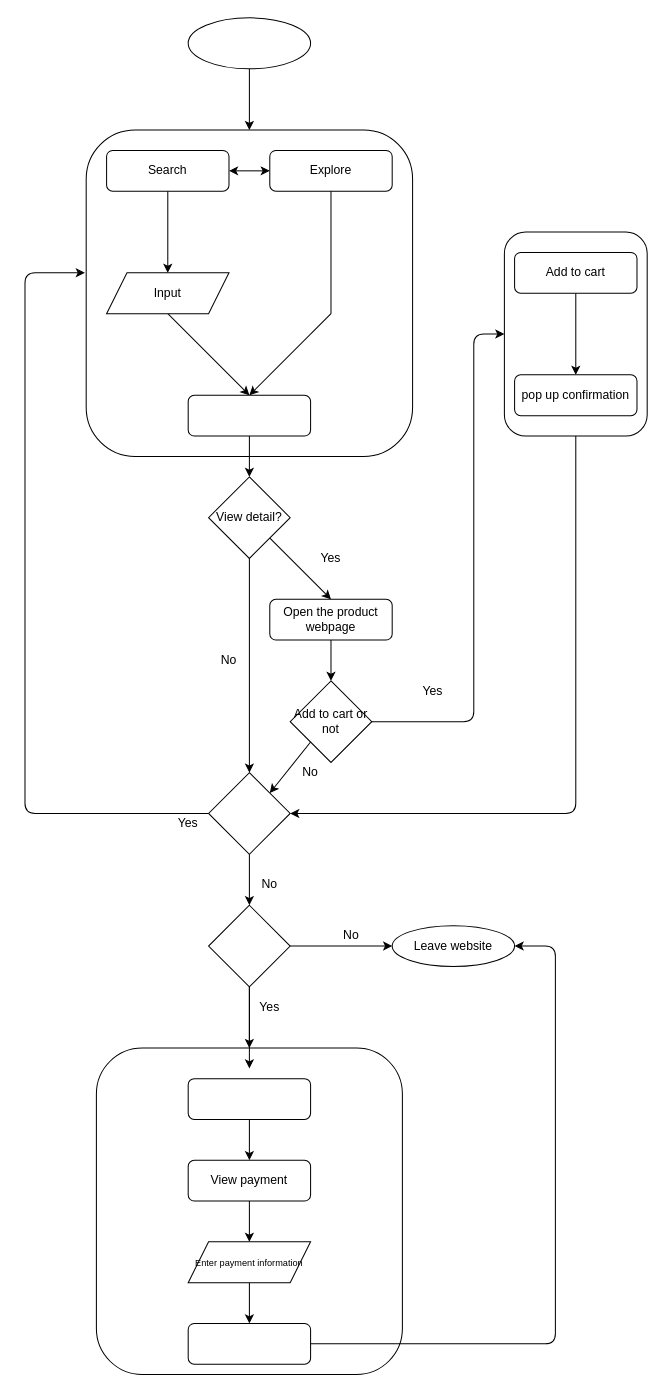
Image size: 665x1392. Some labels were removed from this diagram. The centre of each missing label's shape, as x and y in pixels:
"Check out or not" belongs at pixel 249 945.
"confirmation screen/sent email" belongs at pixel 249 1343.
"Continue shopping or not" belongs at pixel 249 813.
"Enter the website" belongs at pixel 249 43.
"Look over the product" belongs at pixel 249 415.
"View cart" belongs at pixel 249 1098.
